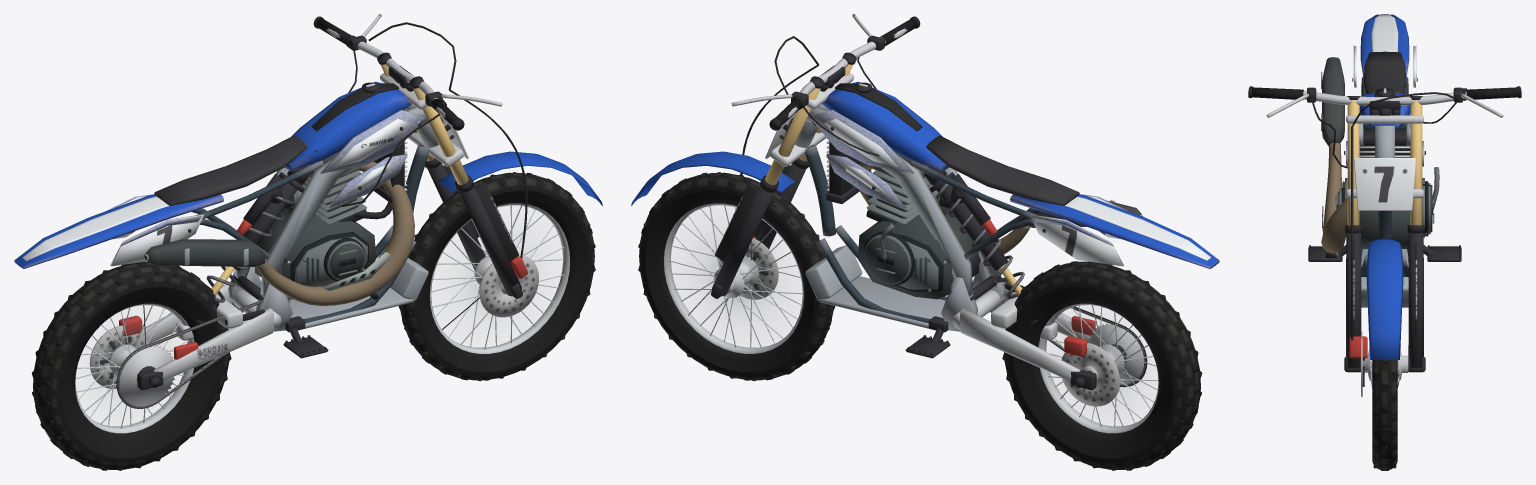
File: street01-bike-detail.glb
The picture shows the model from 3 angles, left to right: view 1: azimuth 30°, elevation 25°; view 2: azimuth 150°, elevation 25°; view 3: azimuth 270°, elevation 25°; orthographic projection. The views are drawn at different scales.
Visible parts, largest first — view 1: wheel_rear, bodywork, wheel_front, frame, exhaust, engine, fork_lower, swingarm, handlebar, fork_upper, sprocket_rear, shock_body (+7 smaller); view 2: wheel_rear, bodywork, wheel_front, frame, engine, fork_lower, swingarm, handlebar, wheel_front_blur, fork_upper, wheel_front_spokes, shock_body (+6 smaller); view 3: fork_lower, fork_upper, bodywork, handlebar, exhaust, wheel_front, frame, engine, pegs, brake_hose.
Boxes of the visible parts, left/top/right/bottom form: wheel_rear: left=31, top=261, right=231, bottom=470; bodywork: left=14, top=81, right=424, bottom=268; wheel_front: left=398, top=172, right=595, bottom=381; frame: left=191, top=104, right=438, bottom=332; exhaust: left=144, top=161, right=414, bottom=305; engine: left=255, top=150, right=378, bottom=299; fork_lower: left=425, top=151, right=602, bottom=298; swingarm: left=119, top=281, right=281, bottom=390; handlebar: left=313, top=14, right=502, bottom=206; fork_upper: left=377, top=52, right=468, bottom=184; sprocket_rear: left=117, top=345, right=174, bottom=406; shock_body: left=232, top=167, right=310, bottom=270; wheel_rear: left=1002, top=261, right=1202, bottom=470; bodywork: left=809, top=81, right=1219, bottom=268; wheel_front: left=638, top=172, right=835, bottom=381; frame: left=795, top=104, right=1042, bottom=332; engine: left=858, top=151, right=980, bottom=299; fork_lower: left=631, top=151, right=808, bottom=298; swingarm: left=952, top=282, right=1096, bottom=390; handlebar: left=731, top=14, right=922, bottom=235; wheel_front_blur: left=695, top=232, right=777, bottom=321; fork_upper: left=765, top=52, right=856, bottom=184; wheel_front_spokes: left=668, top=205, right=802, bottom=348; shock_body: left=923, top=167, right=1007, bottom=270; fork_lower: left=1344, top=225, right=1425, bottom=372; fork_upper: left=1346, top=96, right=1423, bottom=225; bodywork: left=1344, top=14, right=1425, bottom=166; handlebar: left=1248, top=86, right=1521, bottom=185; exhaust: left=1321, top=57, right=1360, bottom=253; wheel_front: left=1361, top=331, right=1408, bottom=470; frame: left=1359, top=77, right=1410, bottom=307; engine: left=1325, top=123, right=1439, bottom=257; pegs: left=1308, top=245, right=1461, bottom=261; brake_hose: left=1351, top=127, right=1353, bottom=340.
Size of the model in its own units: 2.06 by 1.2 by 0.875.
Materials: 9 (4 with a texture image).
